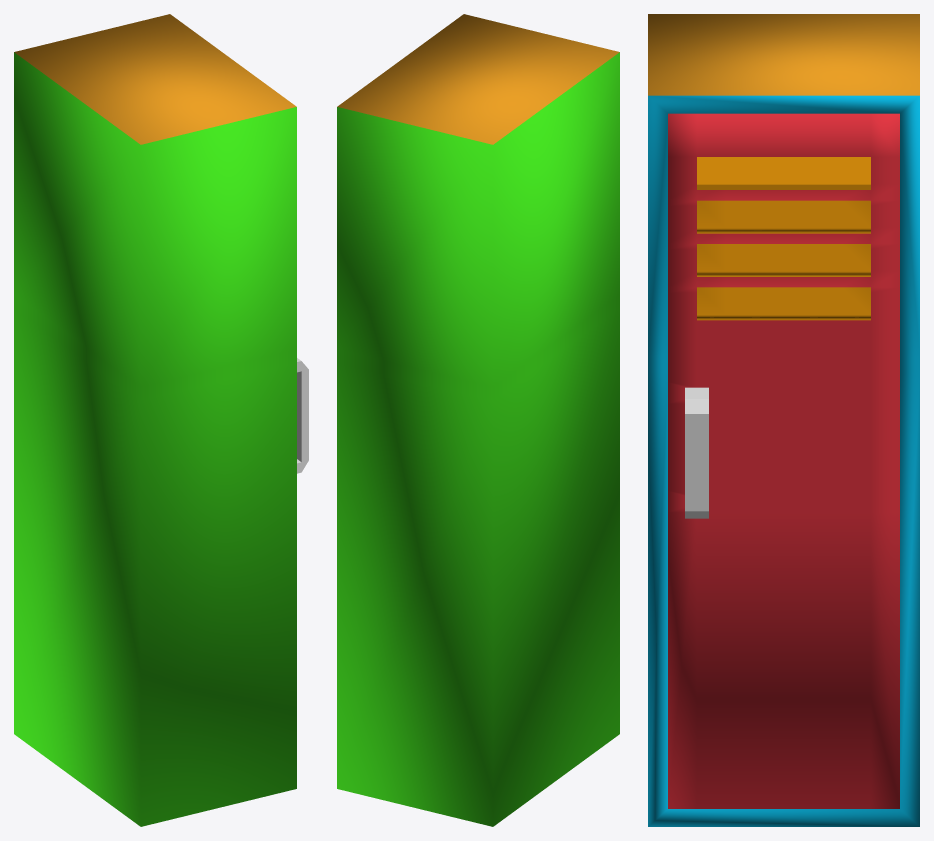
File: S_Locker_low.fbx
3 renders of one model, left to right at view 1: azimuth 30°, elevation 25°; view 2: azimuth 150°, elevation 25°; view 3: azimuth 270°, elevation 25°, orthographic. The views are drawn at different scales.
Visible parts, largest first — view 1: S_Locker_low, S_DoorWrist_low; view 2: S_Locker_low; view 3: S_LockerDoor_low, S_Locker_low, S_DoorWrist_low.
Boxes of the visible parts, bbox=[...] form: S_Locker_low: bbox=[14, 14, 296, 826]; S_DoorWrist_low: bbox=[297, 358, 308, 473]; S_Locker_low: bbox=[337, 14, 619, 826]; S_LockerDoor_low: bbox=[668, 113, 899, 808]; S_Locker_low: bbox=[648, 14, 919, 826]; S_DoorWrist_low: bbox=[685, 387, 708, 518].
Size of the model in its own units: 0.5067 by 1.78 by 0.6006.
